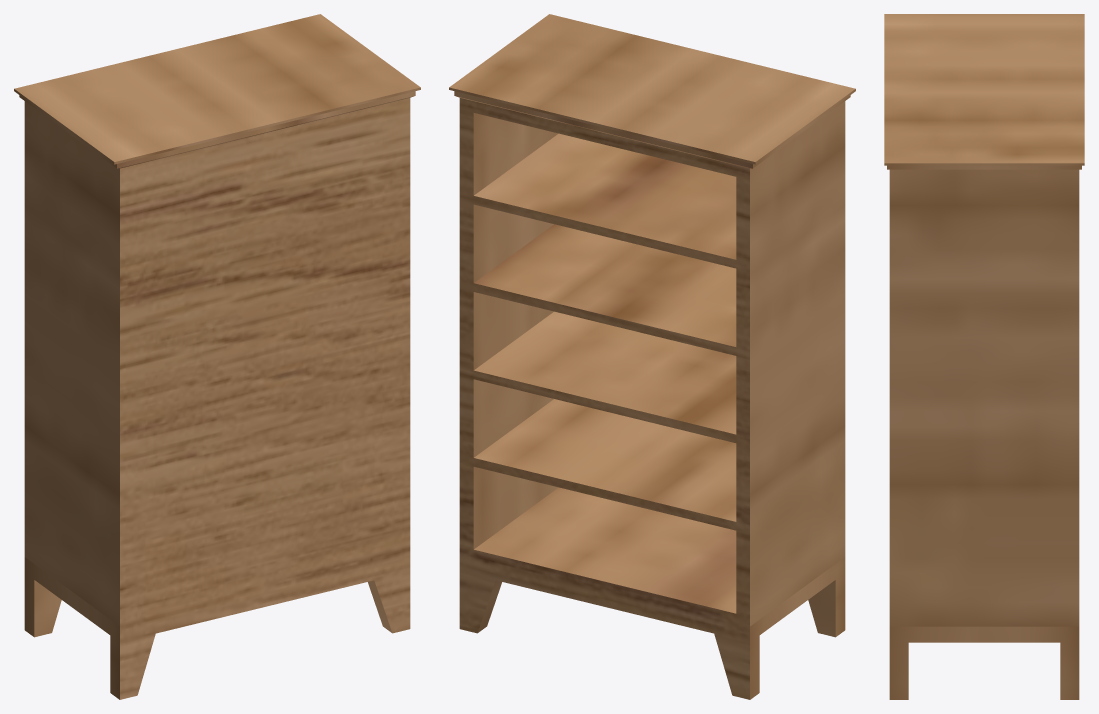
The model's file is Mueble1.fbx.
3 renders of one model, left to right at view 1: azimuth 30°, elevation 25°; view 2: azimuth 150°, elevation 25°; view 3: azimuth 270°, elevation 25°, orthographic.
Parts seen in each view (by area): view 1: pCube1; view 2: pCube1; view 3: pCube1.
Part boxes in pixels (left/top/right/bottom): pCube1: left=14, top=14, right=420, bottom=699; pCube1: left=449, top=14, right=855, bottom=699; pCube1: left=884, top=14, right=1084, bottom=699.
Bounding box in the file's own units: 9.22 × 15.57 × 5.23.
